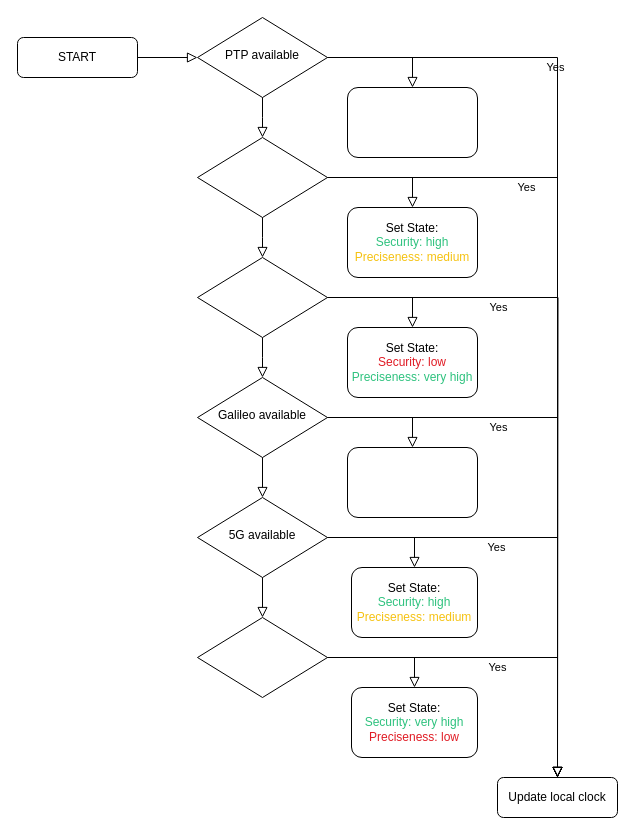
This 635x835 diagram has some shape labels left out. Each missing label, with the box of its shape:
GPS available: (196, 256, 328, 338)
NTP available: (196, 136, 328, 218)
Sat Datalink available: (196, 616, 328, 698)
Set State: Security: high Preciseness: high: (346, 446, 478, 518)
Set State: Security: high Preciseness: very high: (346, 86, 478, 158)
